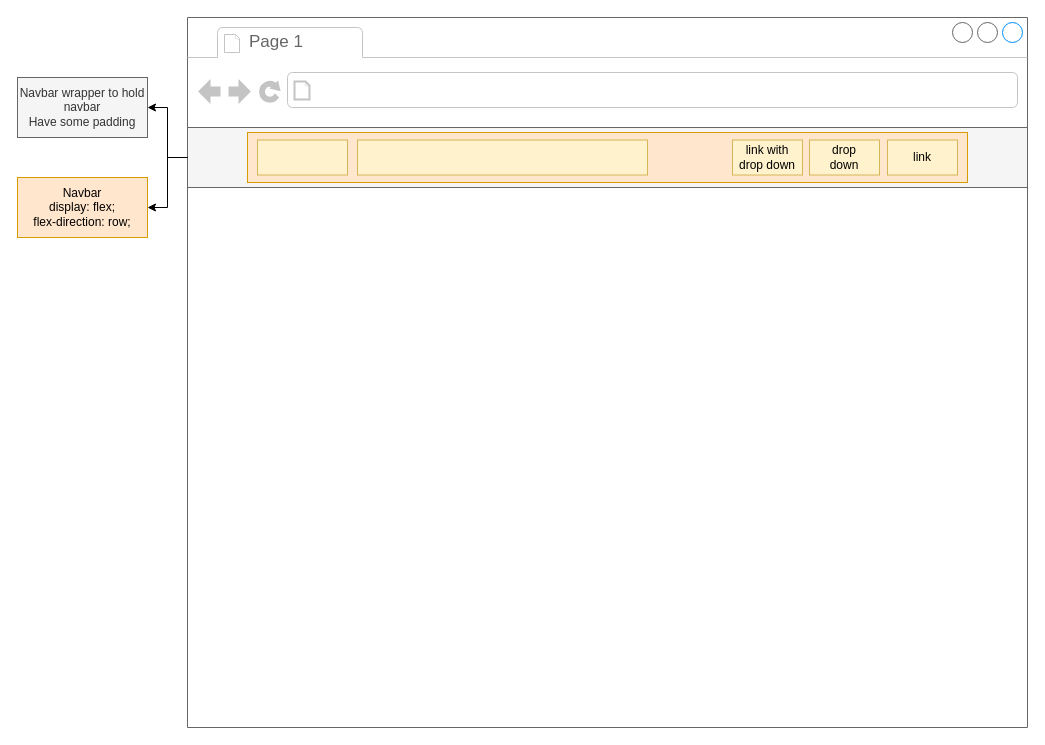
The diagram is 1045 pixels wide and 745 high, and some of its shapes have lost their labels. The centre of each missing label's shape, as x and y in pixels:
https://www.draw.io/flipcart/: point 442,90
logo and sublink: point 302,157
Search bar: point 502,157
